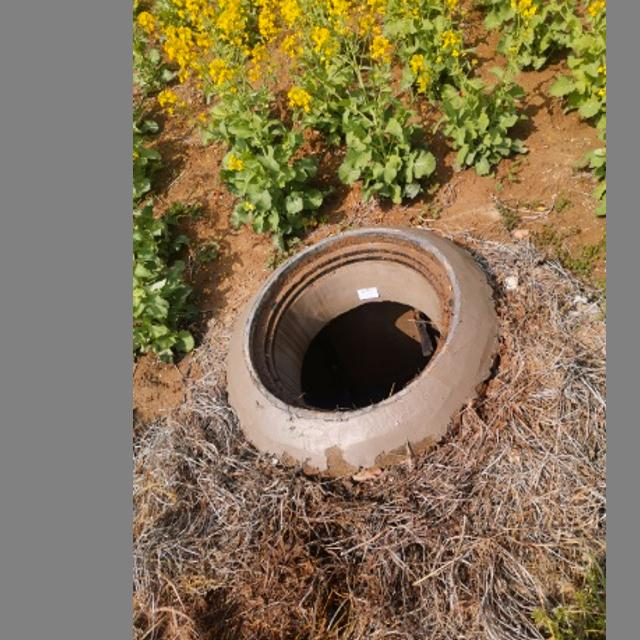lose: (230, 229, 484, 419)
